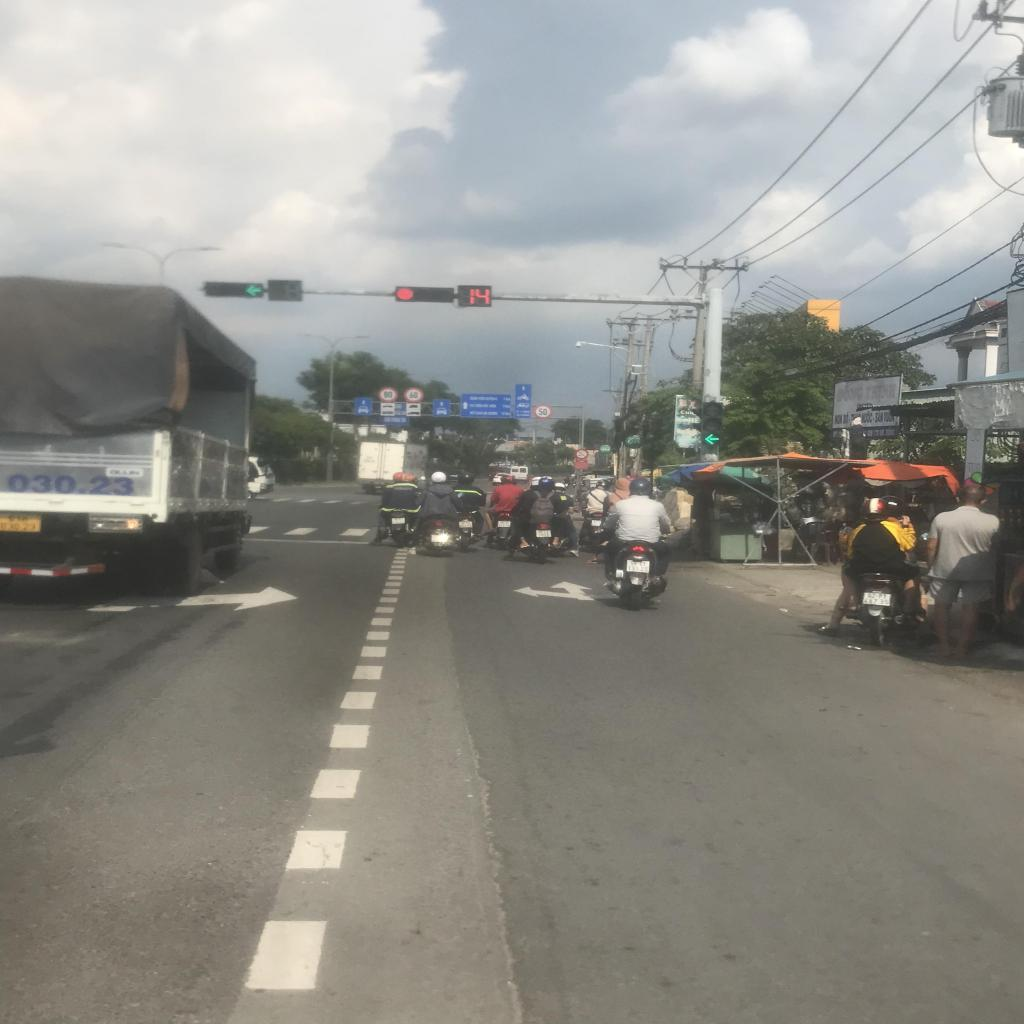cam_cac_loai_xe_3_banh: (574, 448, 588, 459)
duong_cho_xe_o_to: (432, 398, 452, 417), (354, 397, 374, 416)
khac: (460, 393, 512, 419), (514, 383, 532, 418), (406, 403, 421, 410), (380, 410, 395, 416), (407, 410, 422, 416), (381, 402, 395, 408)
toc_do_toi_da_50: (532, 403, 554, 420)
toc_do_toi_da_60: (402, 386, 424, 403)
toc_do_toi_da_80: (378, 386, 398, 402)
